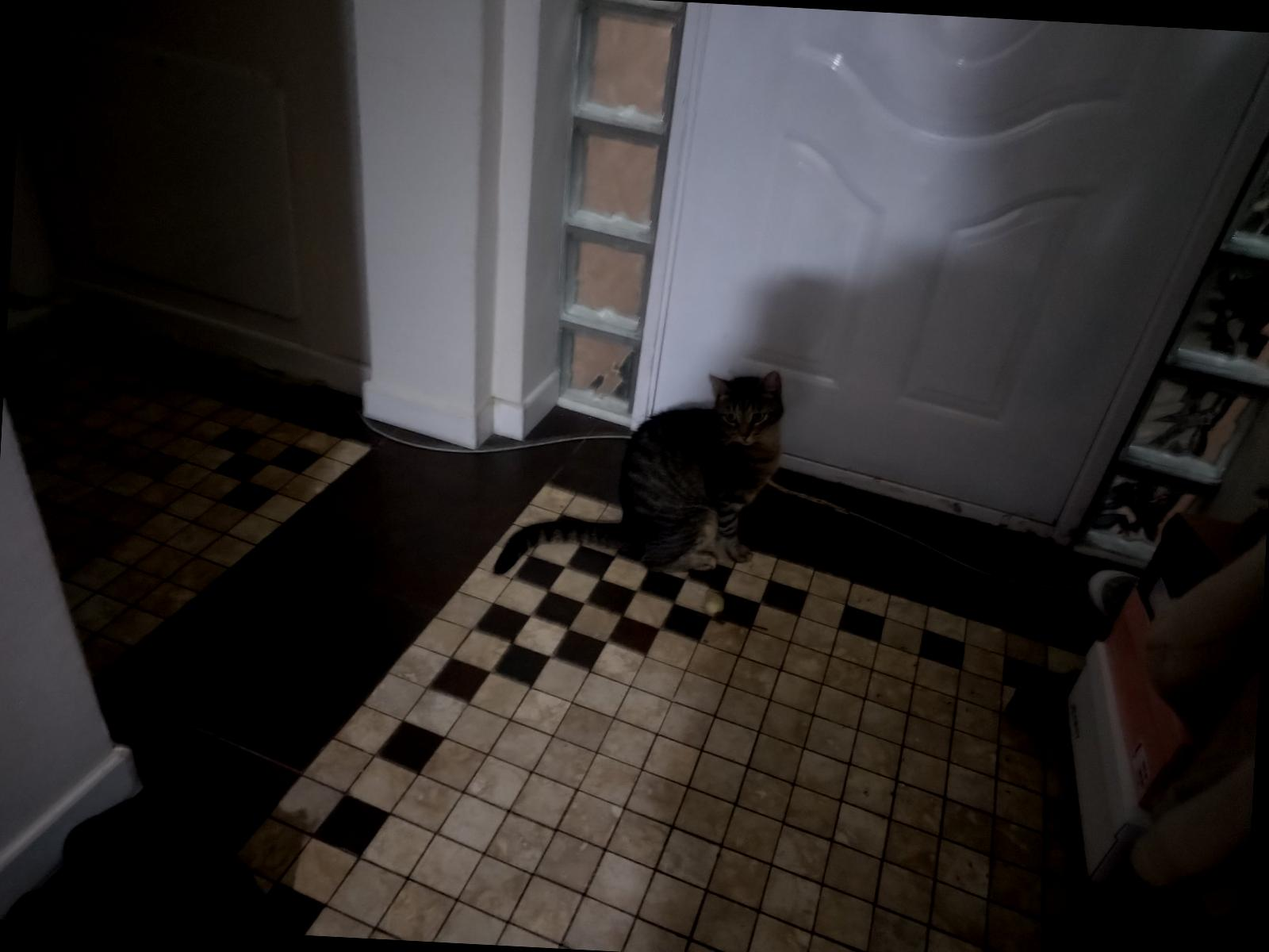macka: (493, 357, 791, 589)
